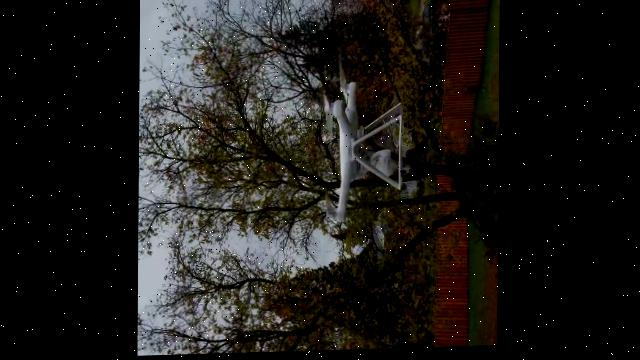drone: (314, 56, 391, 248)
